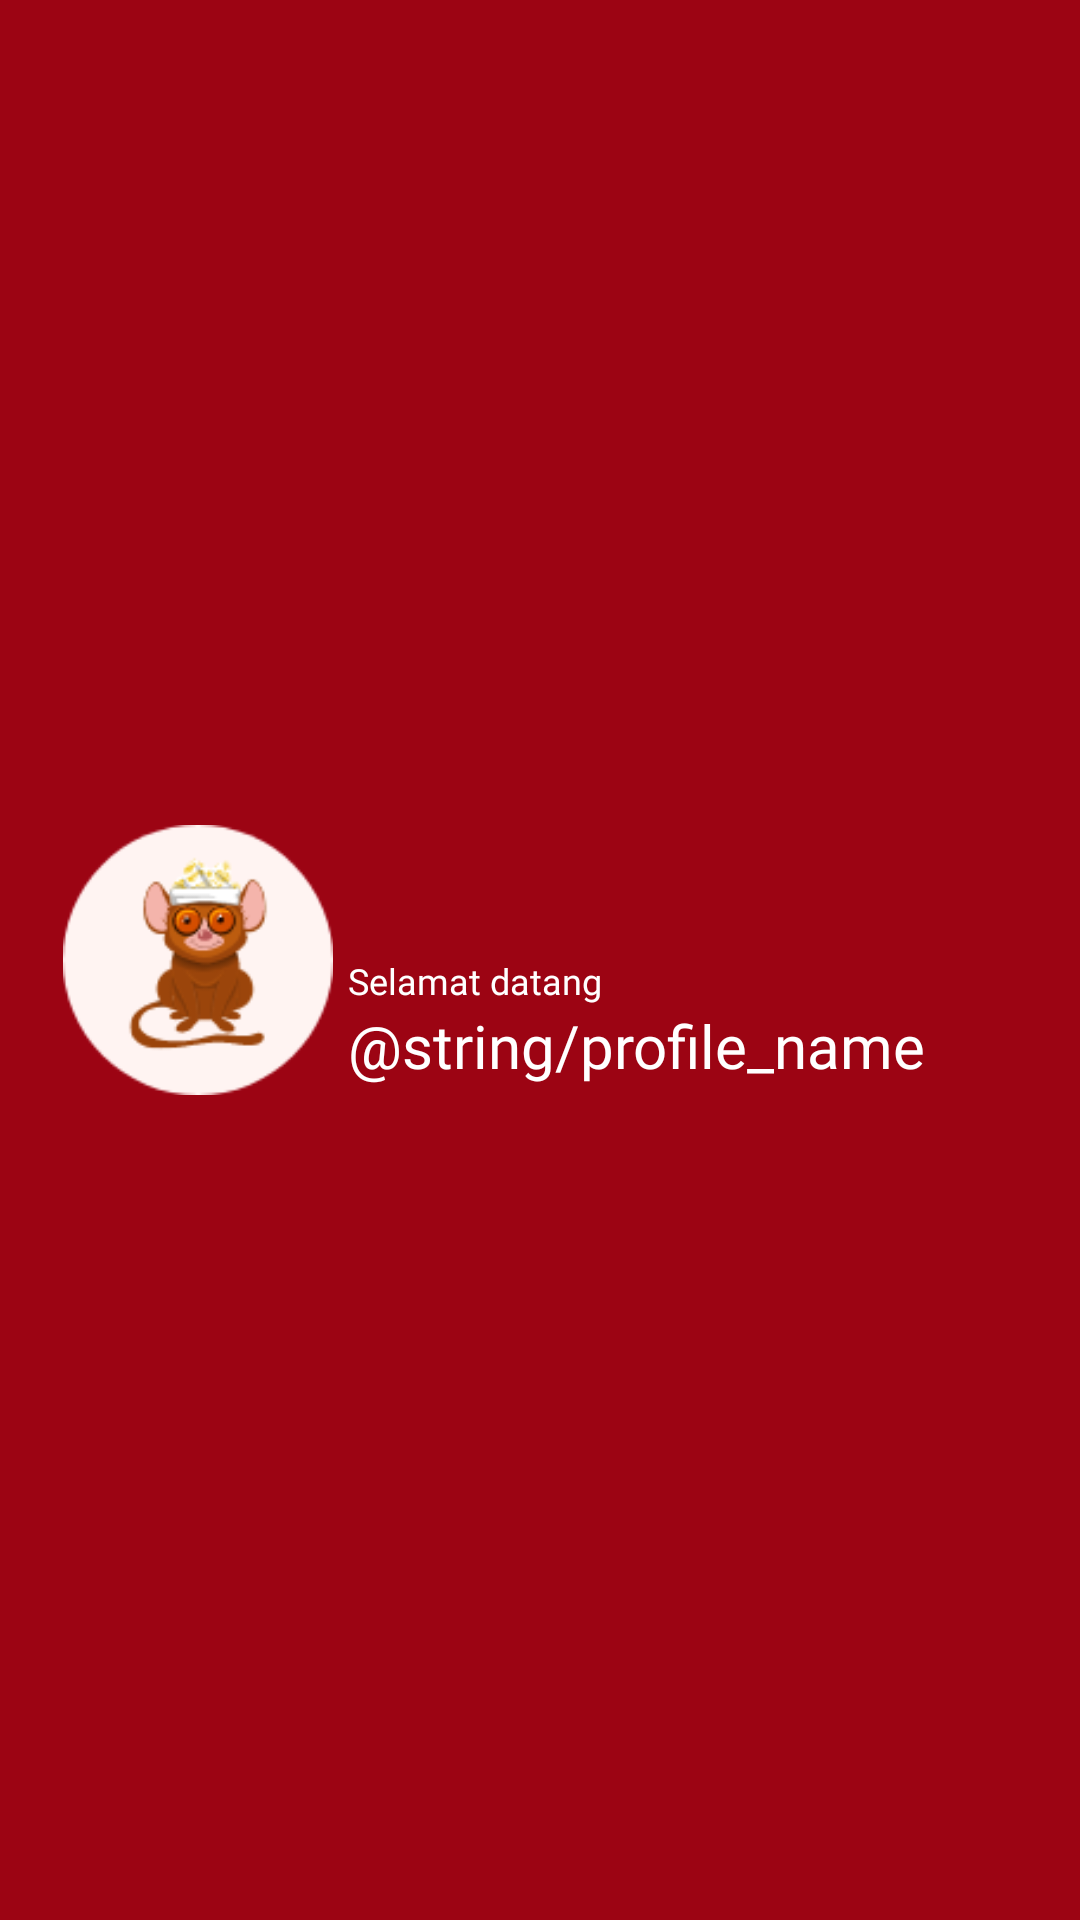

Screen size 1080x1920. Icon name, then its center in pixels as [x,y]:
tarsius: [198,960]
